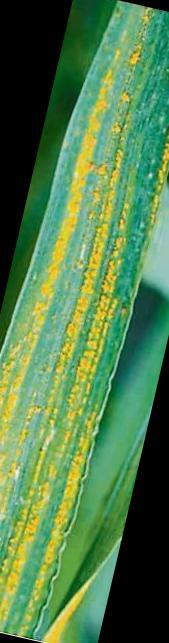Wheat: (0, 50, 159, 477)
